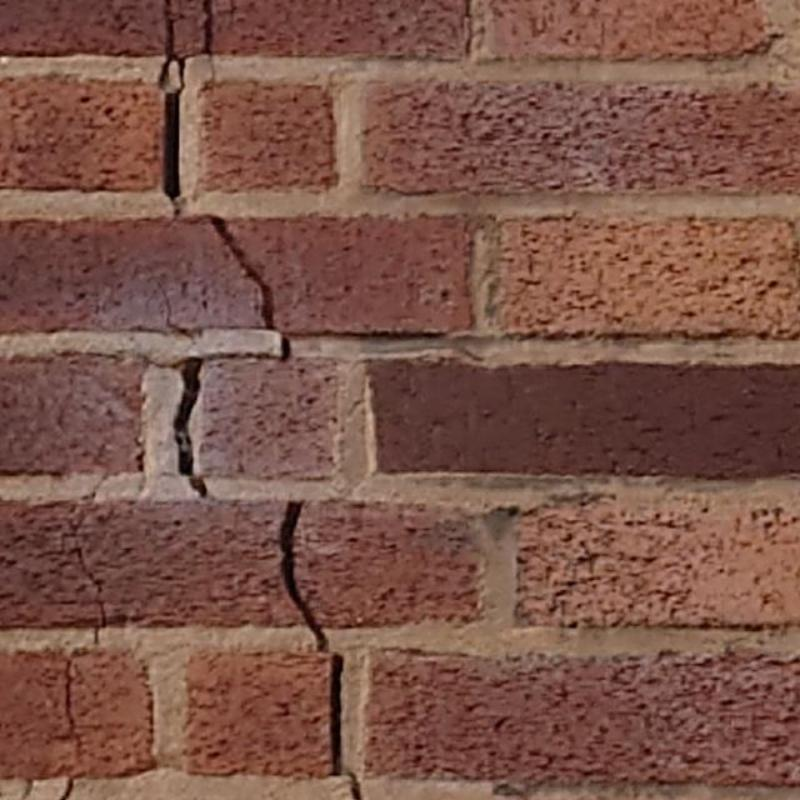pothole: (147, 336, 291, 497), (210, 216, 275, 329), (280, 502, 328, 651), (158, 57, 186, 198), (76, 548, 106, 646), (64, 656, 82, 758), (330, 655, 344, 774), (158, 282, 190, 334), (203, 0, 217, 83), (90, 470, 115, 504), (165, 0, 176, 59), (348, 770, 362, 799), (61, 780, 73, 799), (24, 779, 34, 798)
